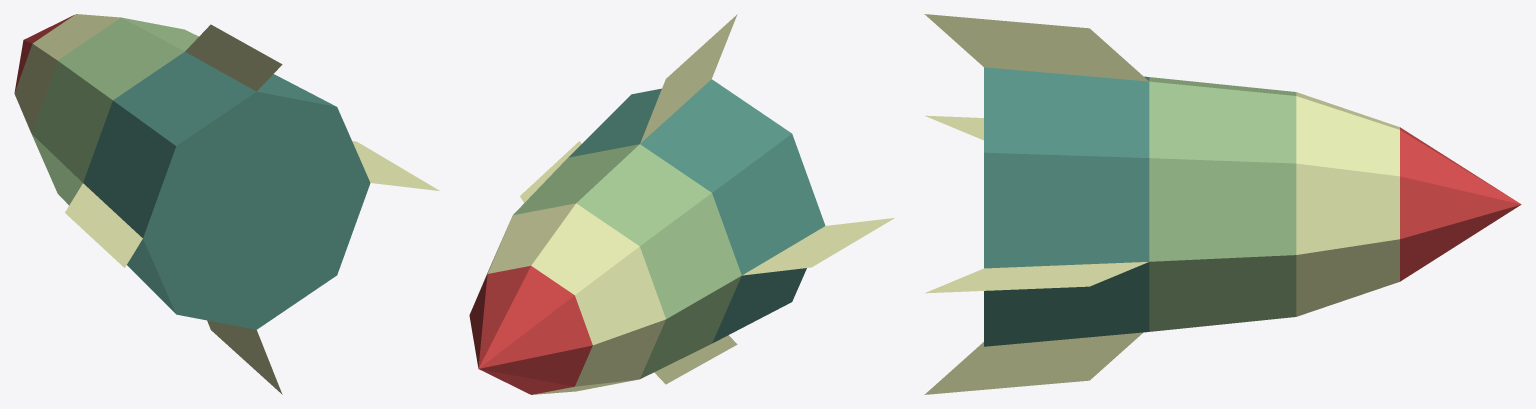
The model's file is Missile.fbx.
The picture shows the model from 3 angles, left to right: view 1: azimuth 30°, elevation 25°; view 2: azimuth 150°, elevation 25°; view 3: azimuth 270°, elevation 25°; orthographic projection. The views are drawn at different scales.
Parts seen in each view (by area): view 1: polySurface12; view 2: polySurface12; view 3: polySurface12.
Part boxes in pixels (bbox=[...]): polySurface12: bbox=[14, 14, 439, 394]; polySurface12: bbox=[469, 14, 894, 394]; polySurface12: bbox=[924, 14, 1521, 394].
Bounding box in the file's own units: 1.08 × 1.08 × 1.54.
